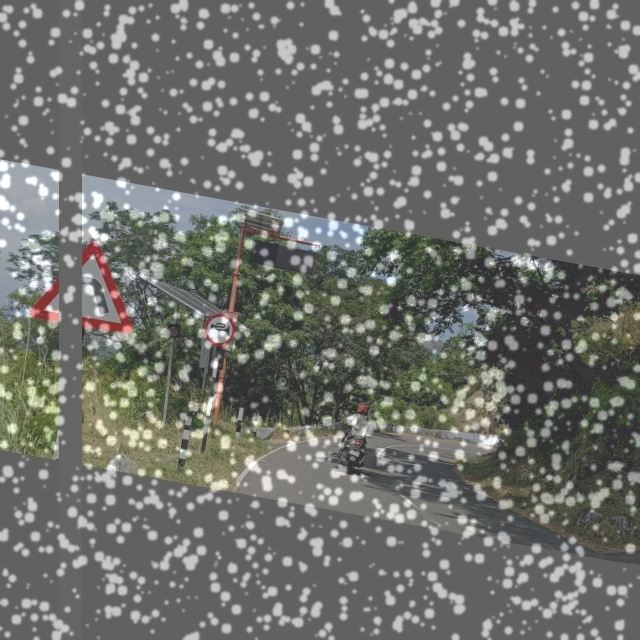Left_Hair_Pin_Bend: (28, 231, 146, 341)
